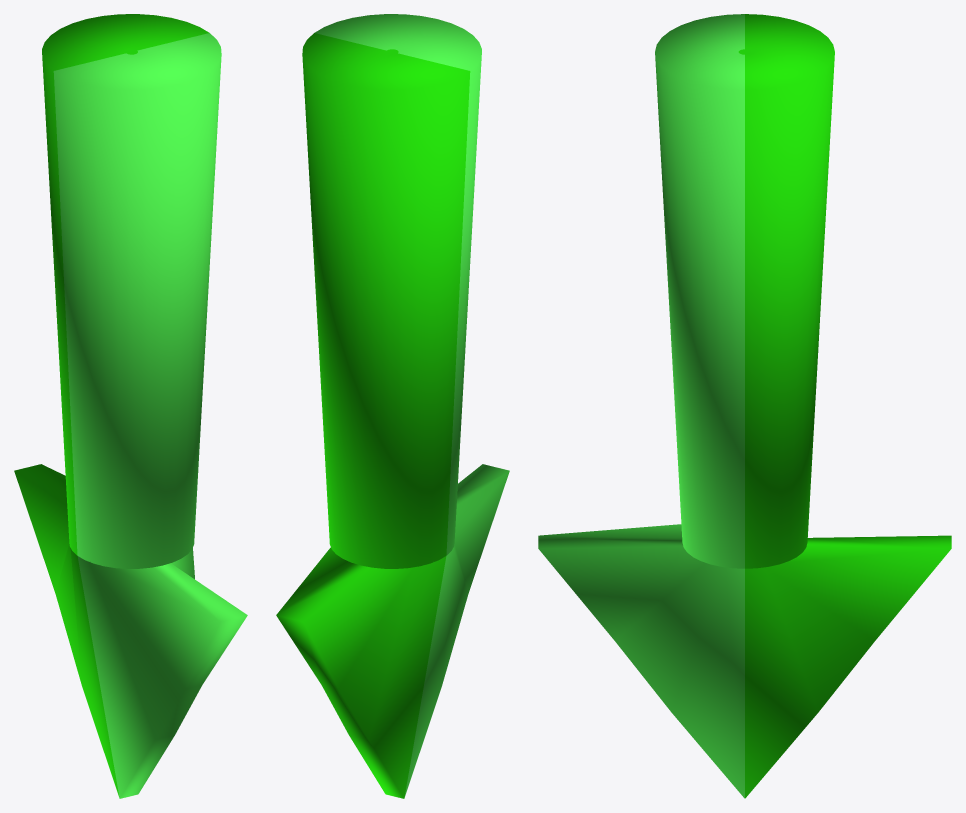
File: Arrow_V3.fbx
3 renders of one model, left to right at view 1: azimuth 30°, elevation 25°; view 2: azimuth 150°, elevation 25°; view 3: azimuth 270°, elevation 25°, orthographic.
Parts seen in each view (by area): view 1: Cylinder; view 2: Cylinder; view 3: Cylinder.
Boxes of the visible parts, x1=… form: Cylinder: x1=14, y1=14, x2=247, y2=798; Cylinder: x1=276, y1=14, x2=509, y2=798; Cylinder: x1=538, y1=14, x2=951, y2=798.
Bounding box in the file's own units: 39.48 × 180 × 90.57.
